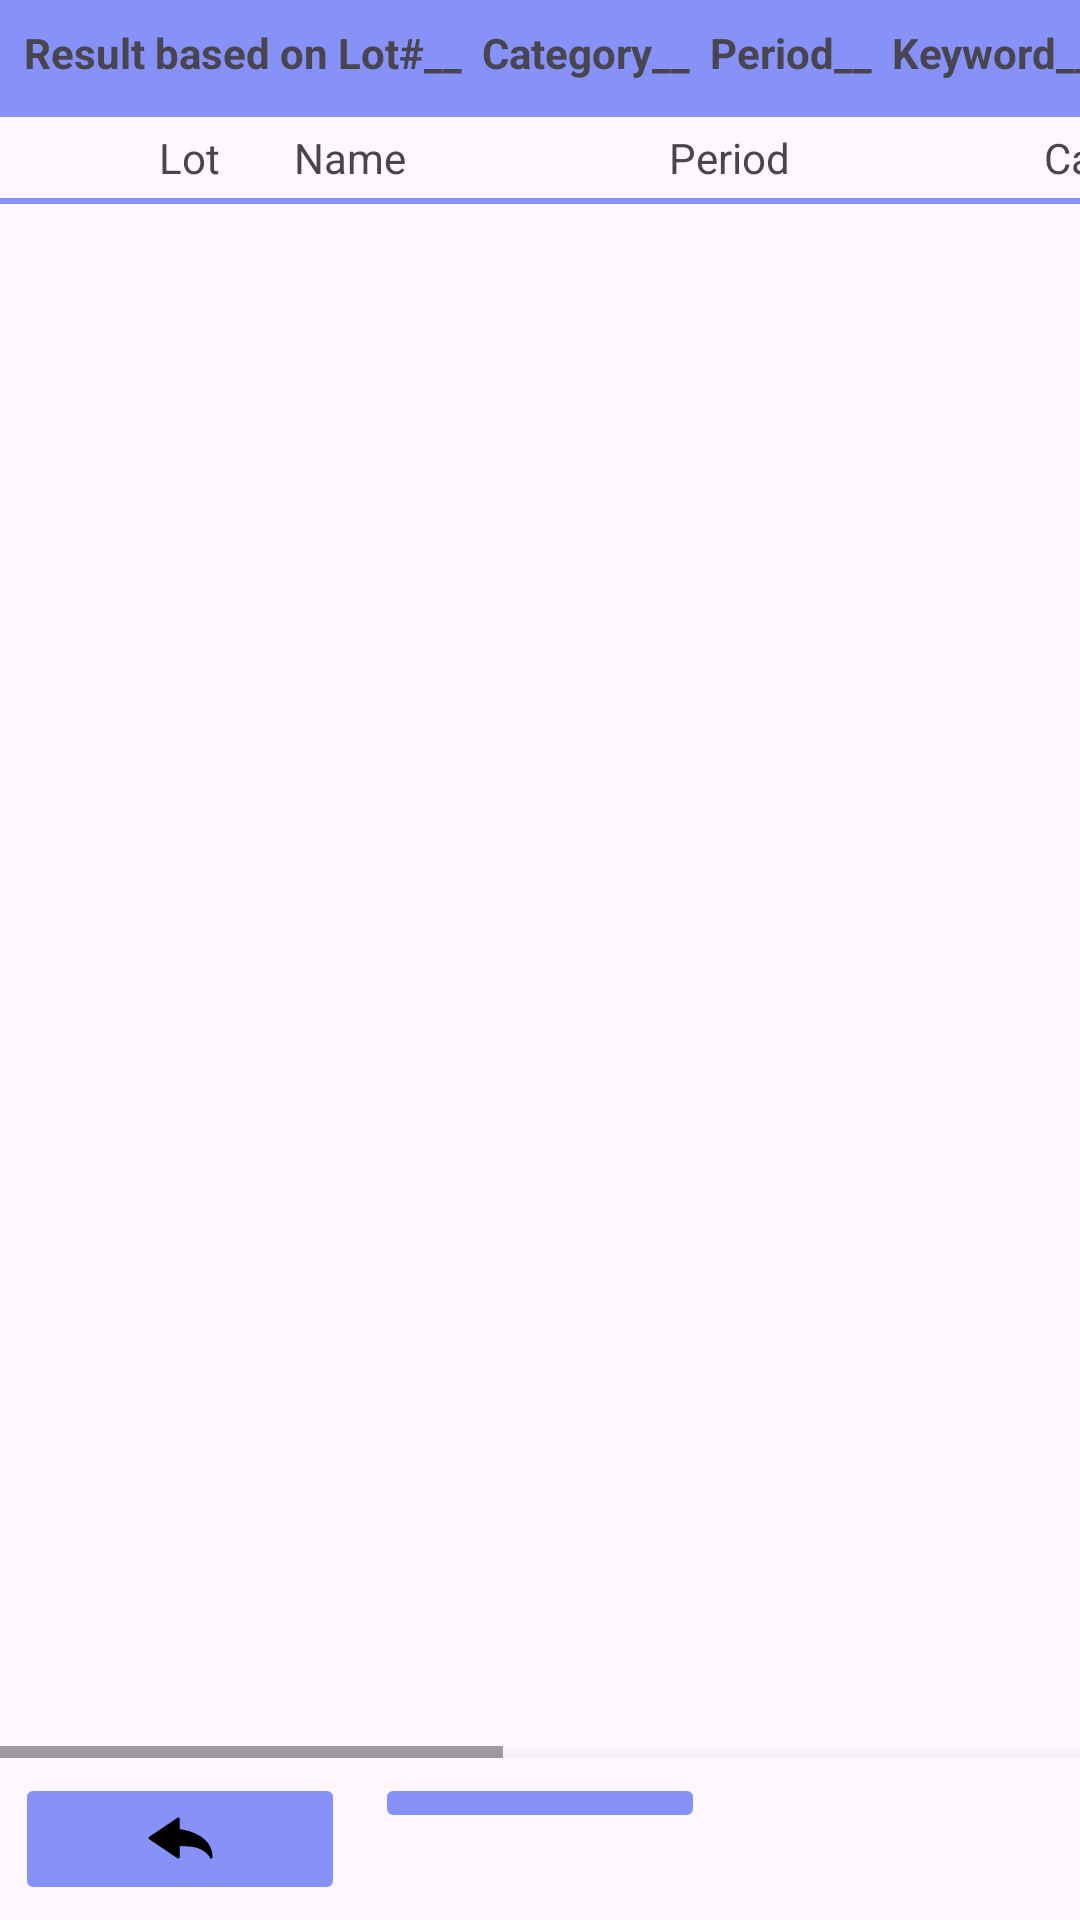

Screen size 1080*1920. Icon name, then its box in pixels as {"left": x1, "top": y1, "right": x2, "bottom": y2}:
Back: {"left": 27, "top": 1791, "right": 333, "bottom": 1887}
